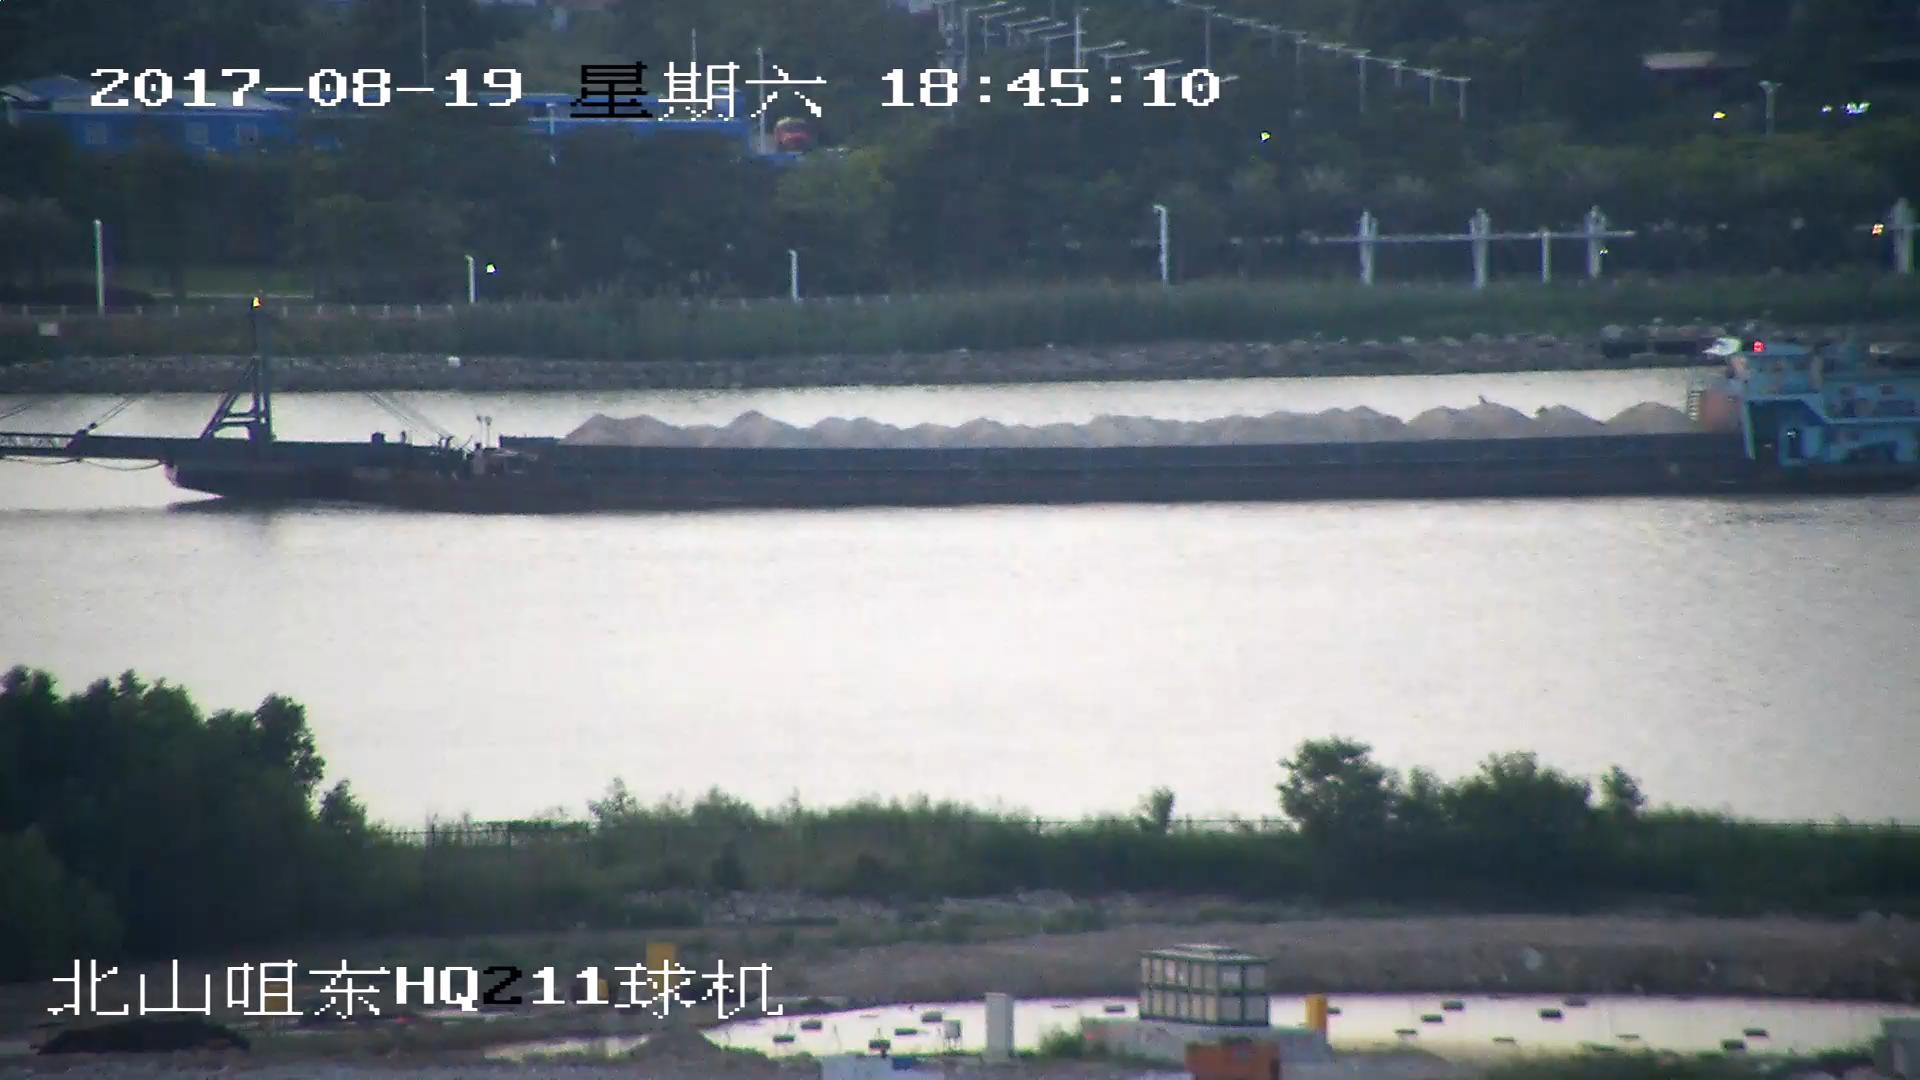Ship: (3, 301, 1920, 520)
